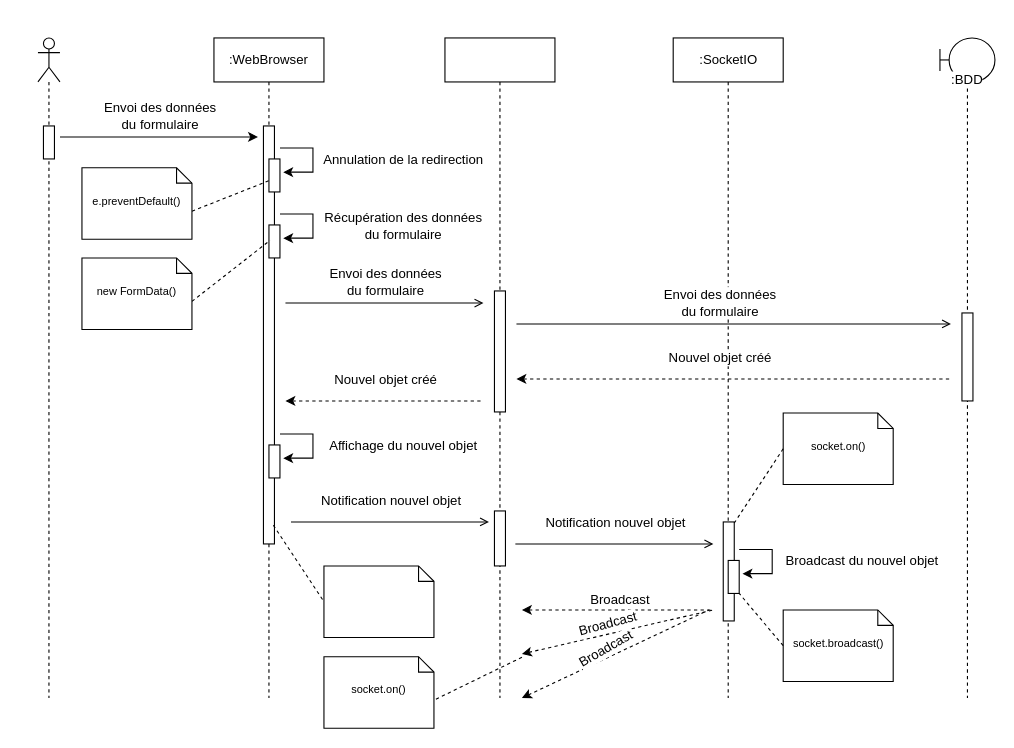
Image size: 1014x748. Some labels were removed from this diagram. The box of each missing label's shape, as (x1, y1, x2, y2) in pixels:
:App: (444, 37, 555, 698)
Internaute: (37, 37, 60, 698)
socket.emit(): (323, 565, 434, 637)
